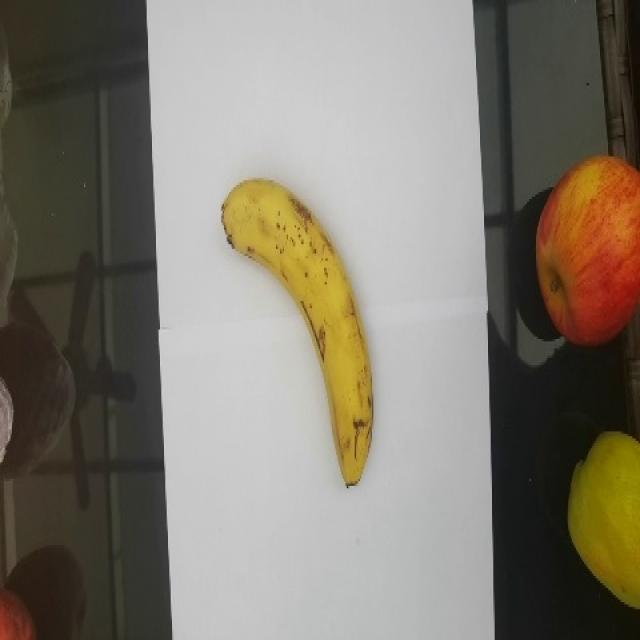Apple: (532, 150, 640, 349)
Banana: (221, 174, 376, 488)
